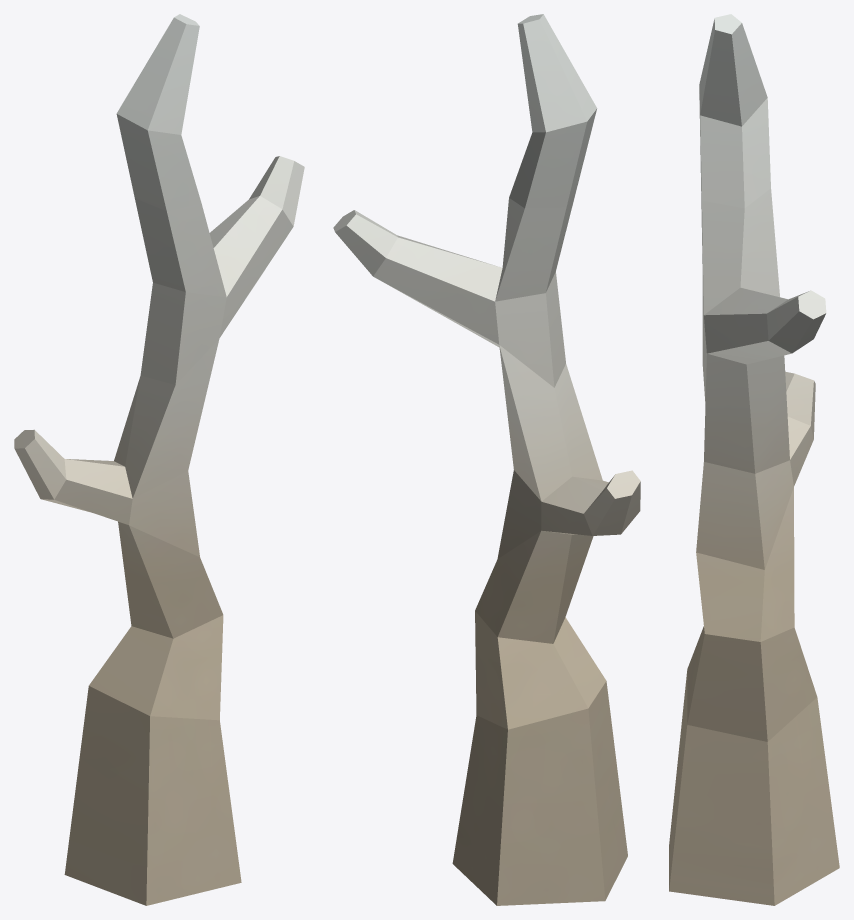
The model's file is Tree_birch_bare.obj.
The picture shows the model from 3 angles, left to right: view 1: azimuth 30°, elevation 25°; view 2: azimuth 150°, elevation 25°; view 3: azimuth 270°, elevation 25°; orthographic projection.
Parts seen in each view (by area): view 1: Tree_birch_bare; view 2: Tree_birch_bare; view 3: Tree_birch_bare.
Part boxes in pixels (x1,y1,x2,y2): Tree_birch_bare: (14, 14, 304, 905); Tree_birch_bare: (333, 14, 640, 905); Tree_birch_bare: (669, 14, 839, 905).
Size of the model in its own units: 2.77 by 7.69 by 1.38.
